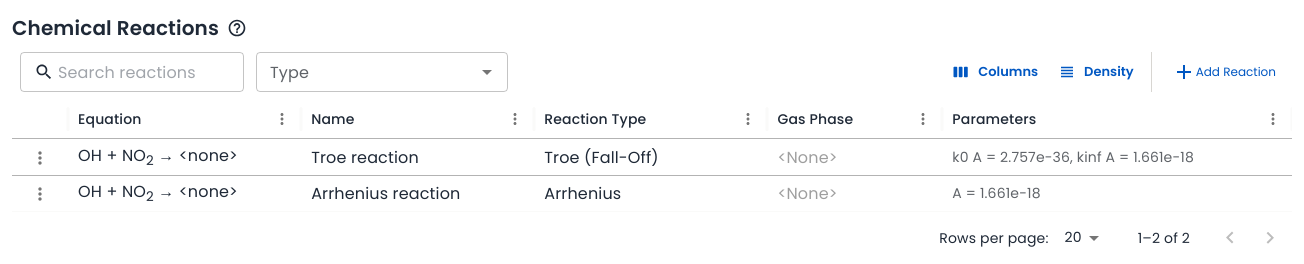
Test: ReactionsView reaction type filter › shows a summary for mixed types and columns when a search leaves one type
Expected: the column heading "Parameters" is shown, top-left (942, 100), bottom-right (1292, 139)
Type "NO2+OH" into the search field with placeholder "Search reactions".
click(129, 72); type("NO2+OH")  # box top-left (58, 52), bottom-right (200, 92)
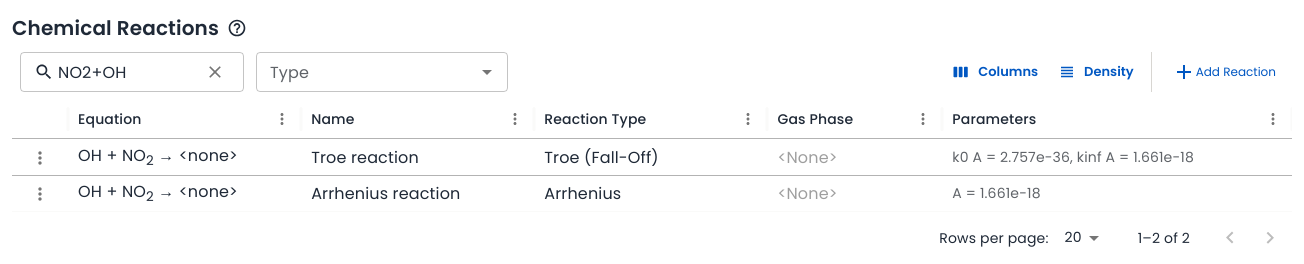
Expected: the text "Troe reaction" is shown, top-left (311, 146), bottom-right (419, 170)
Expected: the text "Arrhenius reaction" is shown, top-left (311, 182), bottom-right (460, 206)
Replace the text in the search field with placeholder "Search reactions" with "Troe" at (129, 72), box top-left (58, 52), bottom-right (200, 92)
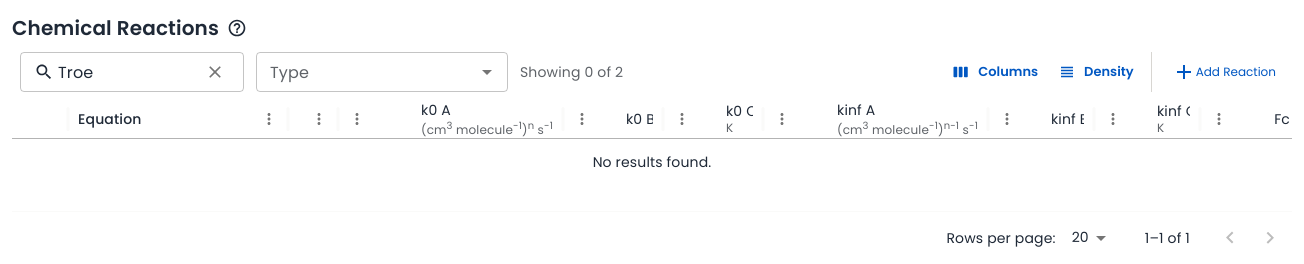
Result: the column heading "k0 A (cm3 molecule-1)n s-1" is shown at top-left (338, 100), bottom-right (563, 139)
Result: the text "Parameters" is gone
